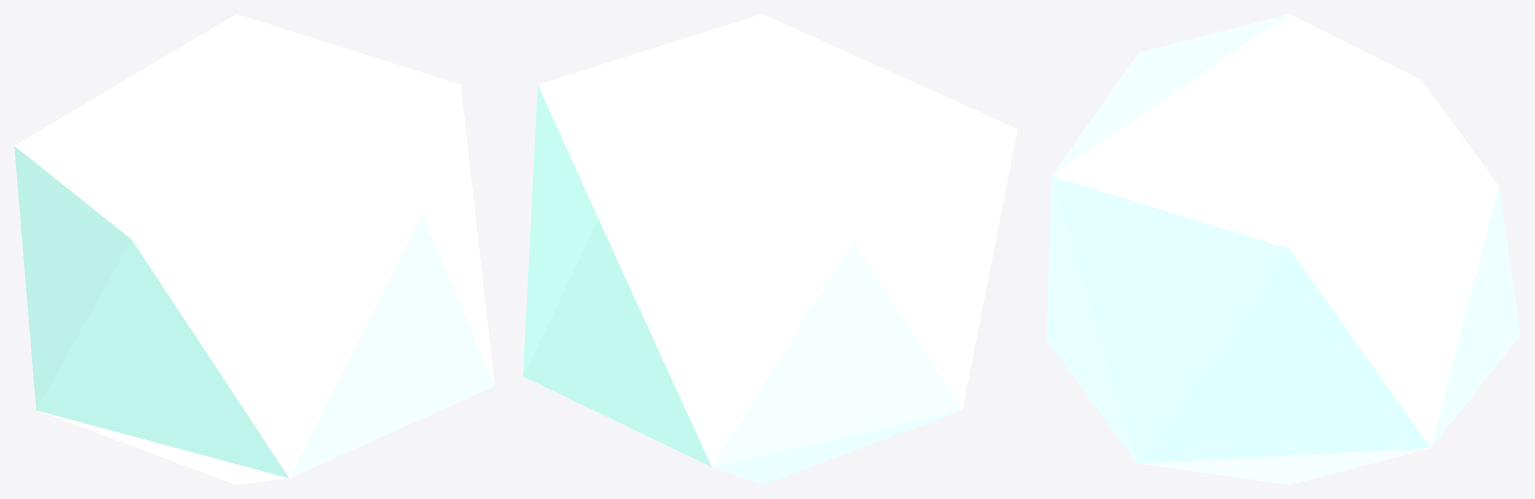
The model's file is a56_bolha_de_ar_gigante.glb.
3 renders of one model, left to right at view 1: azimuth 30°, elevation 25°; view 2: azimuth 150°, elevation 25°; view 3: azimuth 270°, elevation 25°, orthographic.
Parts seen in each view (by area): view 1: a56_bolha_de_ar_gigante; view 2: a56_bolha_de_ar_gigante; view 3: a56_bolha_de_ar_gigante.
Part boxes in pixels (bbox=[...]): a56_bolha_de_ar_gigante: bbox=[14, 14, 494, 484]; a56_bolha_de_ar_gigante: bbox=[523, 14, 1017, 484]; a56_bolha_de_ar_gigante: bbox=[1046, 14, 1520, 484].
Size of the model in its own units: 0.9025 by 0.9567 by 0.8727.
